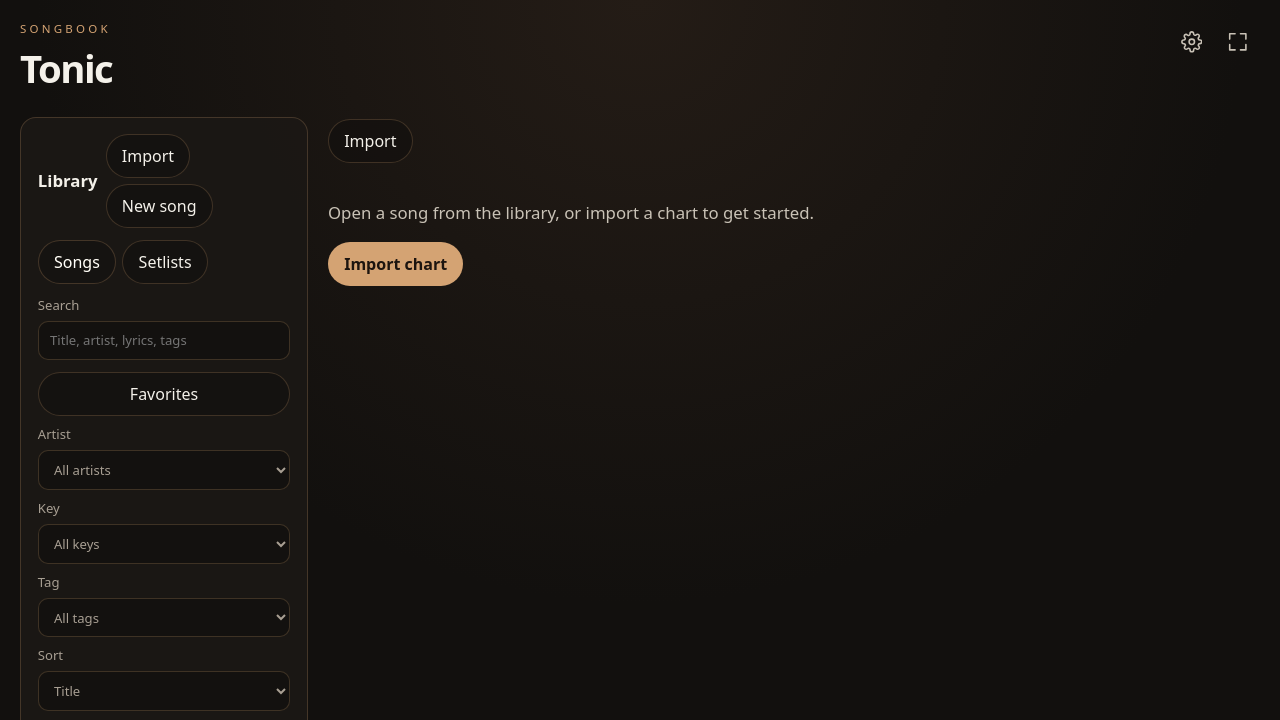
Scenario: App › opens the editor for a new song
What coordinates should you click on to do the following:
click the button "New song"
I would click on:
 (159, 206)
Its box is [106,184,213,228].
(page scrolled)
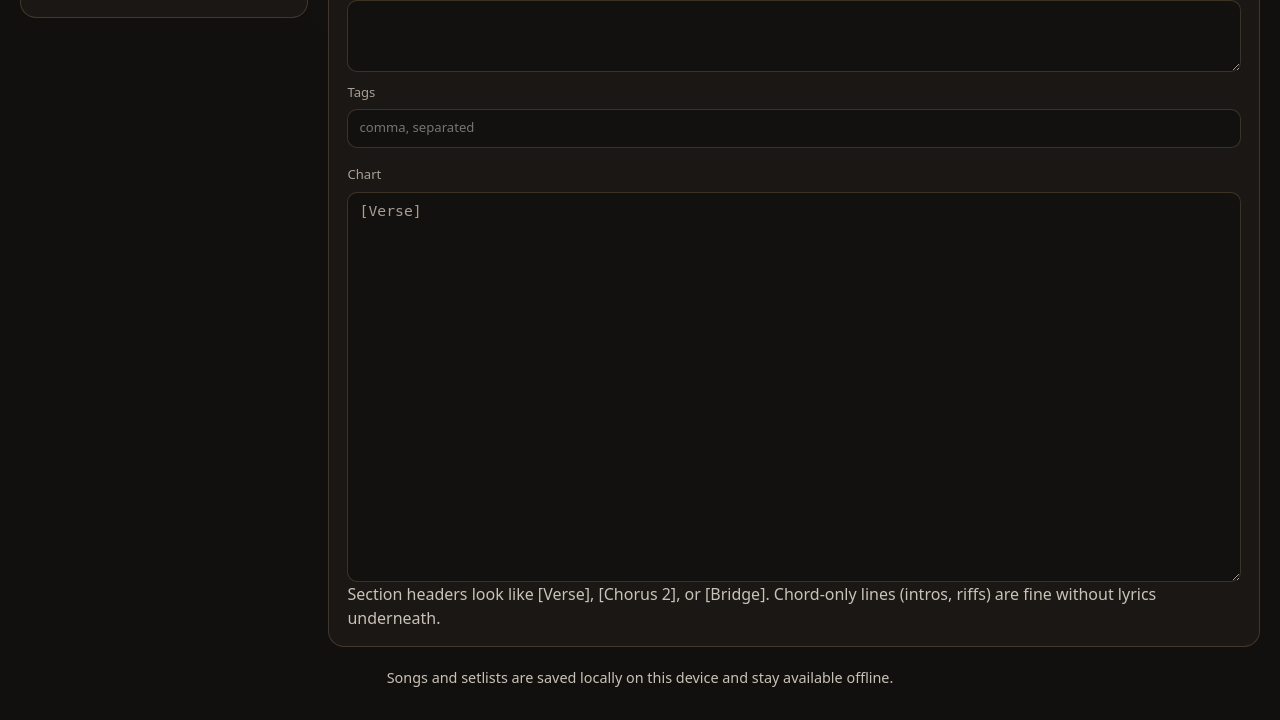
Now the text box named "Chord and lyric chart" is shown, box [347,192,1241,582]
